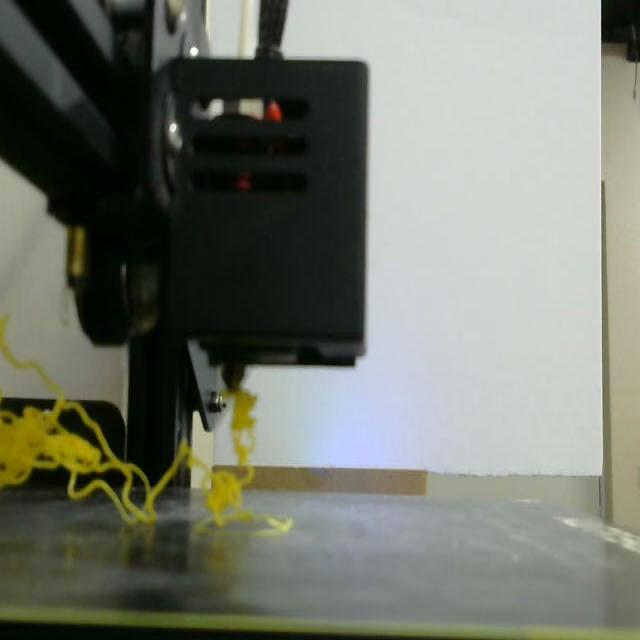spaghetti: (0, 318, 256, 526)
